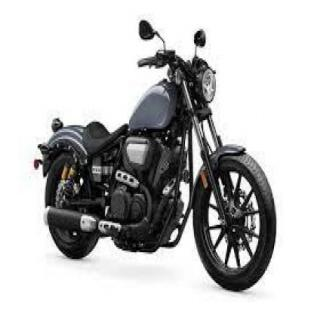Motocicleta: (29, 16, 280, 295)
